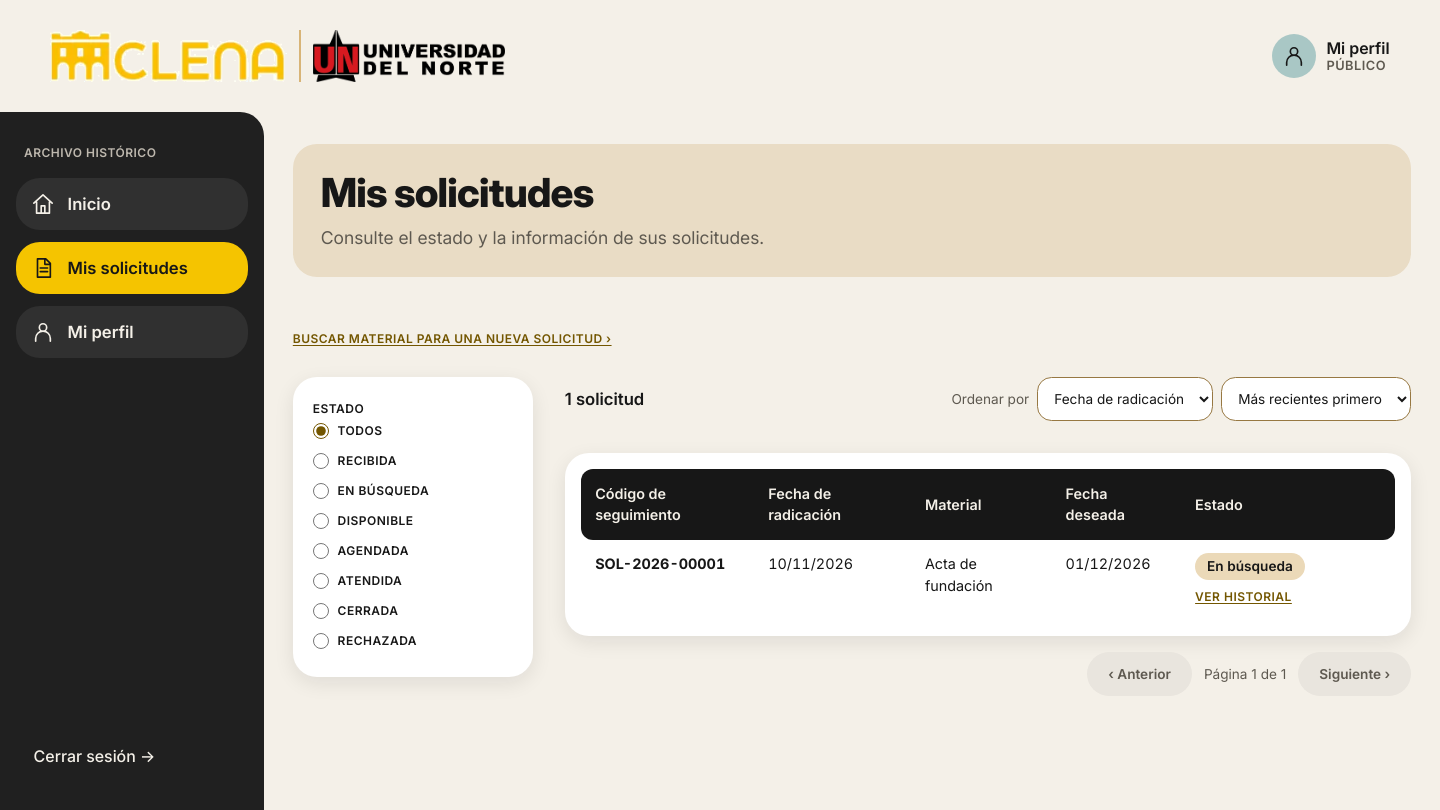
Test case: MyRequestsPage › says which status has no requests when filtering
Expected: the table is shown, [565,453,1411,636]
Step 1. Click the radio button labelled "Agendada" → (321, 551), box [313,543,329,559]
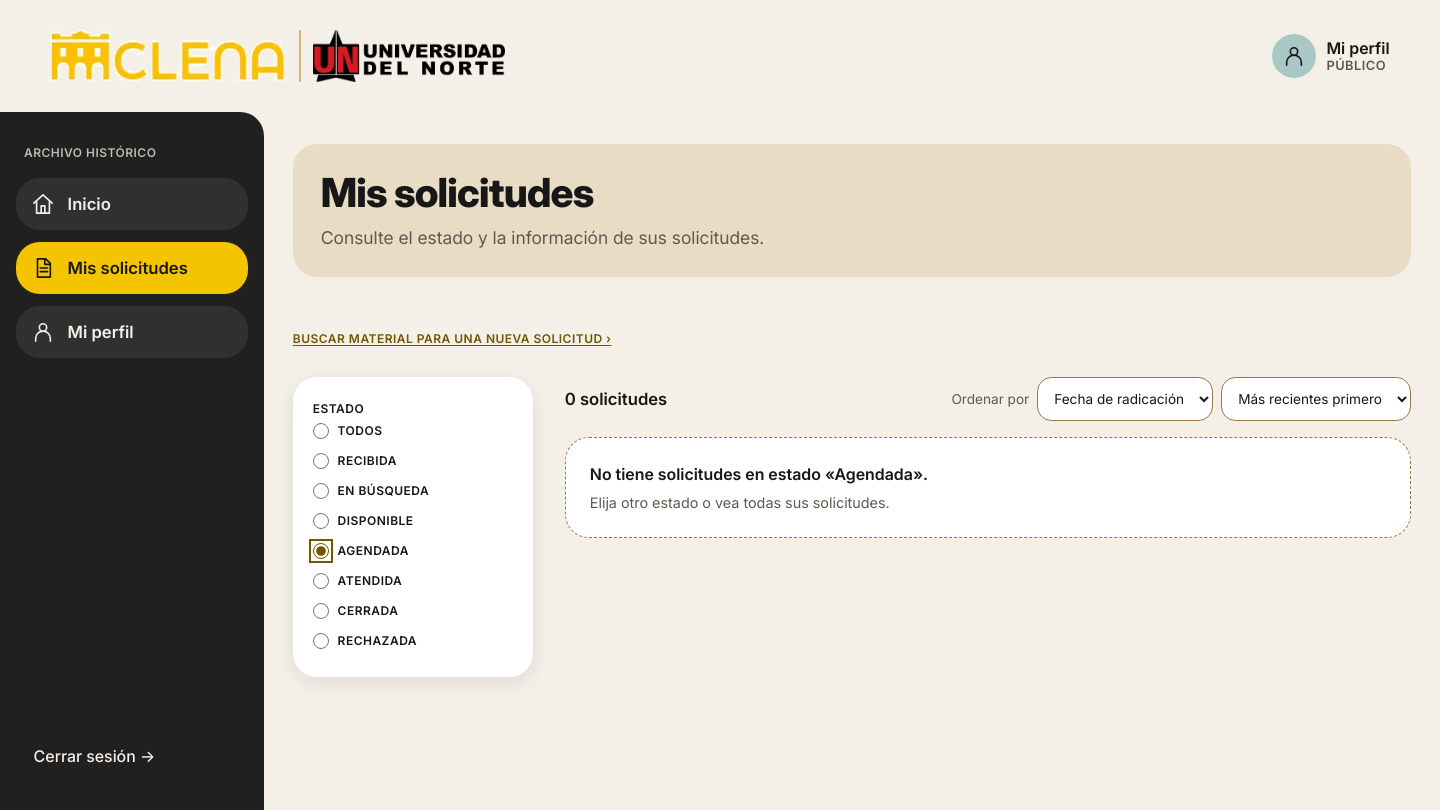
Expected: the text "No tiene solicitudes en estado «Agendada»." is shown, [590,464,928,484]
